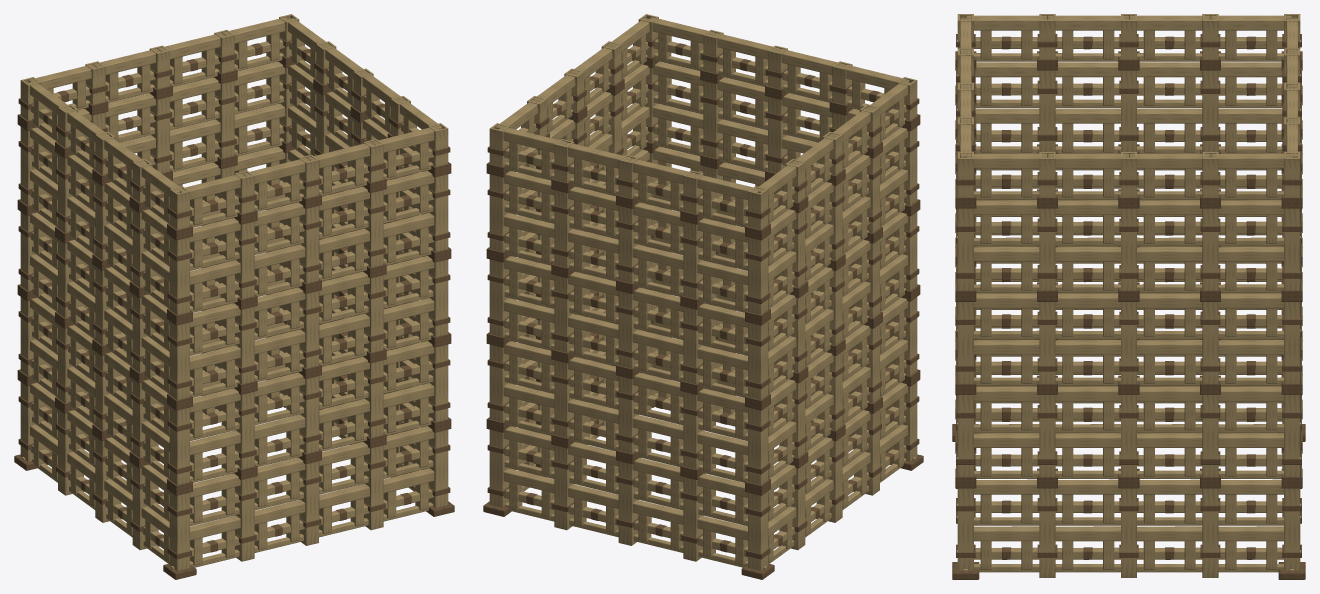
The picture shows the model from 3 angles, left to right: view 1: azimuth 30°, elevation 25°; view 2: azimuth 150°, elevation 25°; view 3: azimuth 270°, elevation 25°; orthographic projection. The views are drawn at different scales.
Parts seen in each view (by area): view 1: Tier 0 side 0 post 0, Tier 1 side 0 post 0, Tier 3 side 0 post 0, Tier 2 side 0 post 0, Tier 0 side 0 post 2, Tier 0 side 0 post 1, Tier 0 side 0 post 3, Tier 0 side 1 post 0, Tier 1 side 1 post 0, Tier 1 side 0 post 2, Tier 2 side 1 post 0, Tier 3 side 0 post 2 (+90 smaller); view 2: Tier 0 side 3 post 0, Tier 1 side 3 post 0, Tier 3 side 3 post 0, Tier 2 side 3 post 0, Tier 0 side 2 post 2, Tier 0 side 2 post 3, Tier 0 side 2 post 1, Tier 1 side 2 post 2, Tier 0 side 2 post 0, Tier 3 side 2 post 2, Tier 1 side 2 post 0, Tier 2 side 2 post 2 (+90 smaller); view 3: Tier 0 side 1 post 1, Tier 0 side 1 post 3, Tier 0 side 1 post 2, Tier 3 side 1 post 1, Tier 3 side 1 post 3, Tier 3 side 1 post 0, Tier 3 side 2 post 0, Tier 0 side 1 post 0, Tier 0 side 2 post 0, Tier 2 side 1 post 1, Tier 2 side 1 post 3, Tier 3 side 3 post 1 (+93 smaller).
Part boxes in pixels (left/top/right/bottom): Tier 0 side 0 post 0: left=169, top=491, right=189, bottom=570; Tier 1 side 0 post 0: left=169, top=406, right=189, bottom=484; Tier 3 side 0 post 0: left=169, top=236, right=189, bottom=314; Tier 2 side 0 post 0: left=169, top=321, right=189, bottom=399; Tier 0 side 0 post 2: left=299, top=461, right=319, bottom=545; Tier 0 side 0 post 1: left=235, top=477, right=254, bottom=561; Tier 0 side 0 post 3: left=364, top=445, right=383, bottom=530; Tier 0 side 1 post 0: left=428, top=429, right=448, bottom=507; Tier 1 side 1 post 0: left=428, top=344, right=448, bottom=421; Tier 1 side 0 post 2: left=299, top=376, right=319, bottom=453; Tier 2 side 1 post 0: left=428, top=259, right=448, bottom=336; Tier 3 side 0 post 2: left=299, top=206, right=319, bottom=283; Tier 0 side 3 post 0: left=748, top=491, right=768, bottom=570; Tier 1 side 3 post 0: left=748, top=406, right=768, bottom=484; Tier 3 side 3 post 0: left=748, top=236, right=768, bottom=314; Tier 2 side 3 post 0: left=748, top=321, right=768, bottom=399; Tier 0 side 2 post 2: left=618, top=461, right=638, bottom=545; Tier 0 side 2 post 3: left=683, top=477, right=703, bottom=561; Tier 0 side 2 post 1: left=554, top=445, right=573, bottom=530; Tier 1 side 2 post 2: left=618, top=376, right=638, bottom=453; Tier 0 side 2 post 0: left=489, top=429, right=509, bottom=507; Tier 3 side 2 post 2: left=618, top=206, right=638, bottom=283; Tier 1 side 2 post 0: left=489, top=344, right=509, bottom=421; Tier 2 side 2 post 2: left=618, top=291, right=638, bottom=368; Tier 0 side 1 post 1: left=1039, top=488, right=1055, bottom=577; Tier 0 side 1 post 3: left=1202, top=488, right=1218, bottom=577; Tier 0 side 1 post 2: left=1121, top=488, right=1136, bottom=577; Tier 3 side 1 post 1: left=1039, top=208, right=1055, bottom=290; Tier 3 side 1 post 3: left=1202, top=208, right=1218, bottom=290; Tier 3 side 1 post 0: left=957, top=208, right=973, bottom=290; Tier 3 side 2 post 0: left=1284, top=208, right=1300, bottom=290; Tier 0 side 1 post 0: left=957, top=488, right=973, bottom=570; Tier 0 side 2 post 0: left=1284, top=488, right=1300, bottom=570; Tier 2 side 1 post 1: left=1039, top=302, right=1055, bottom=383; Tier 2 side 1 post 3: left=1202, top=302, right=1218, bottom=383; Tier 3 side 3 post 1: left=1202, top=70, right=1218, bottom=151.
Size of the model in its own units: 1.95 by 2.55 by 1.95.
Materials: 2 (2 with a texture image).
